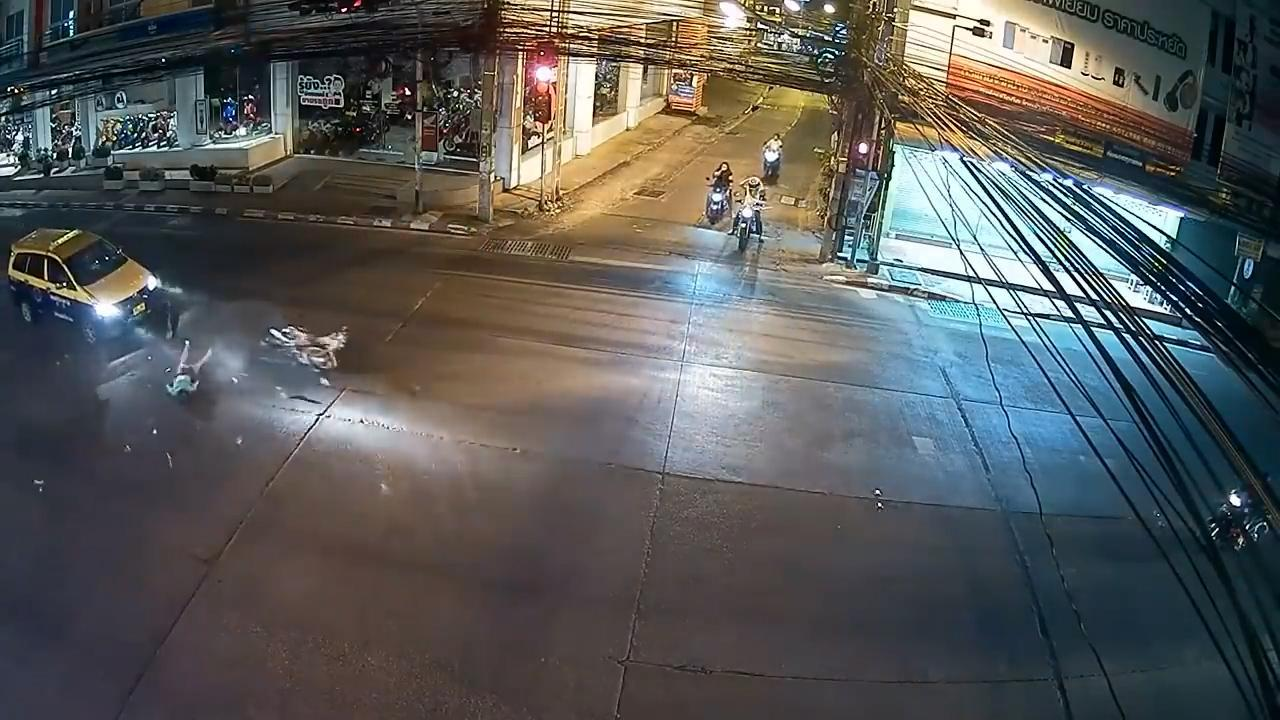accident: (166, 337, 219, 409)
